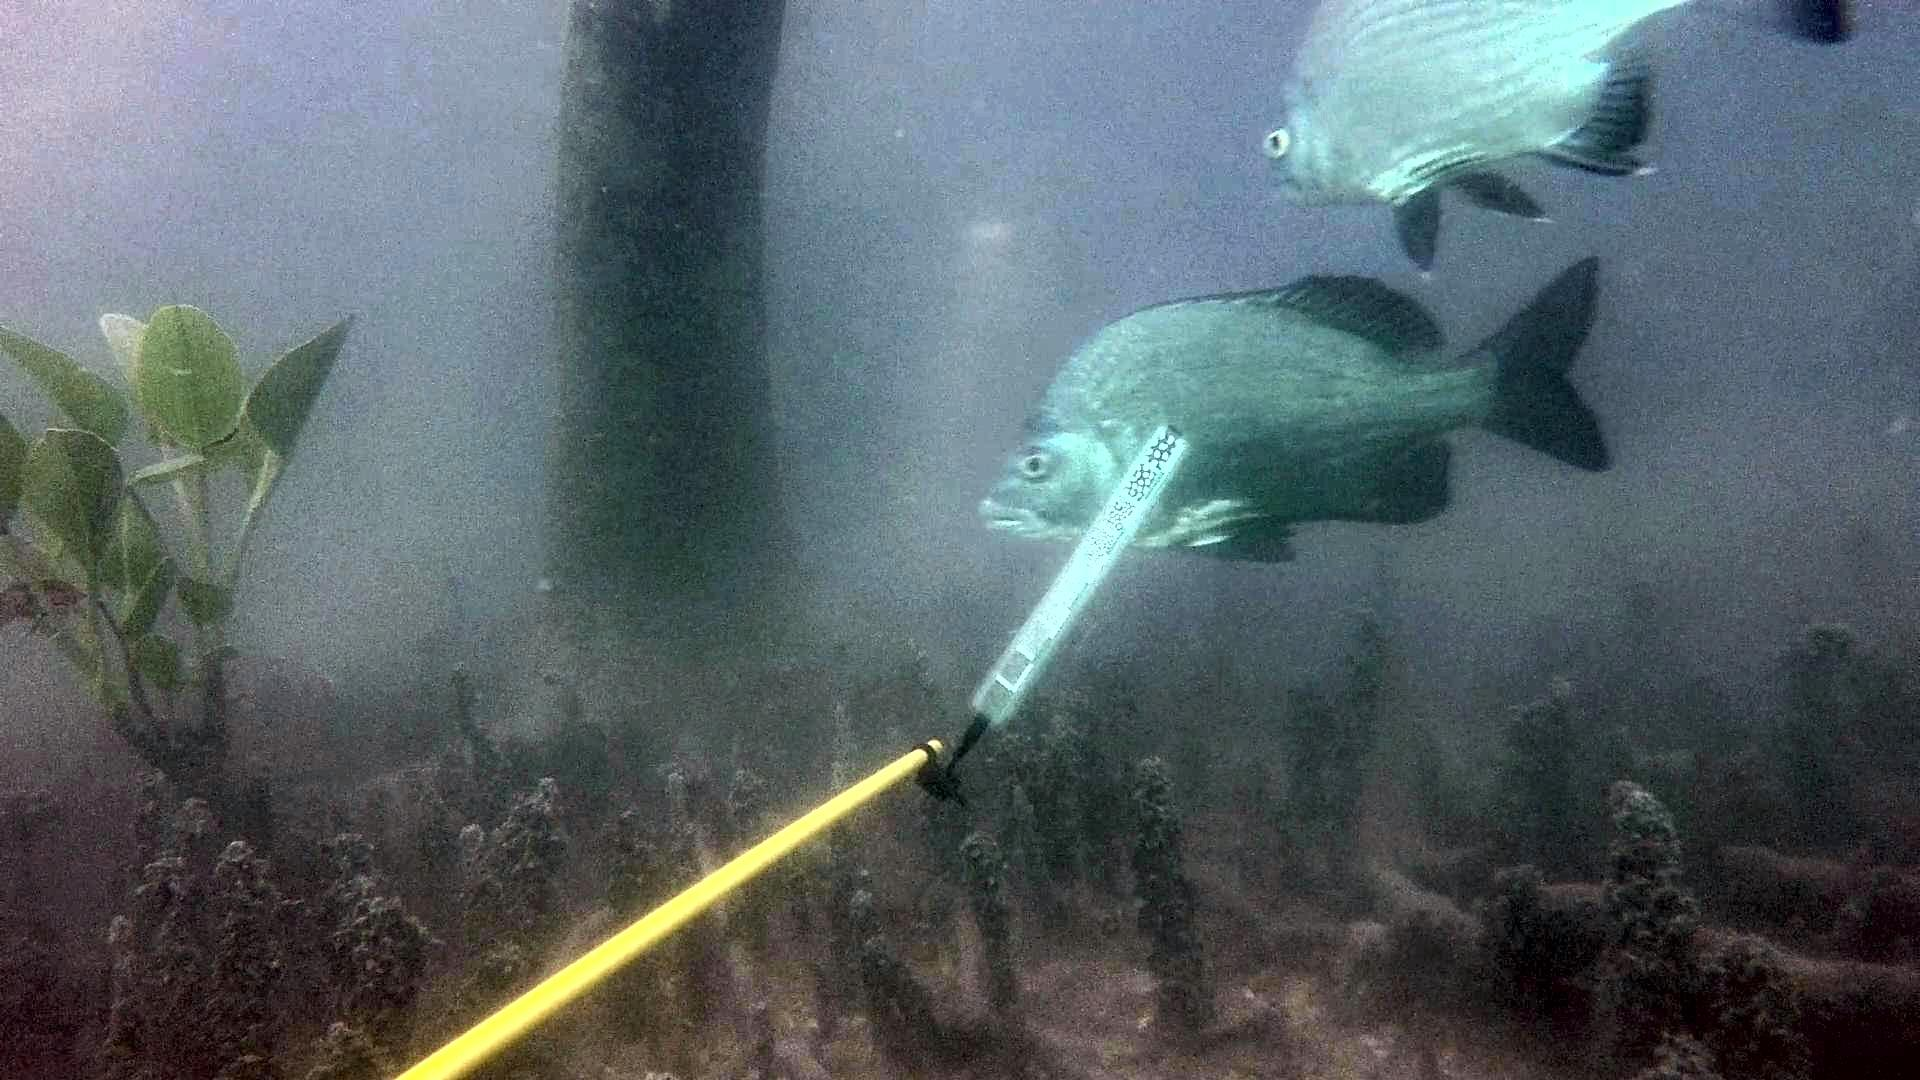acanthopagrus palmaris: (965, 248, 1625, 574), (1253, 0, 1870, 278)
